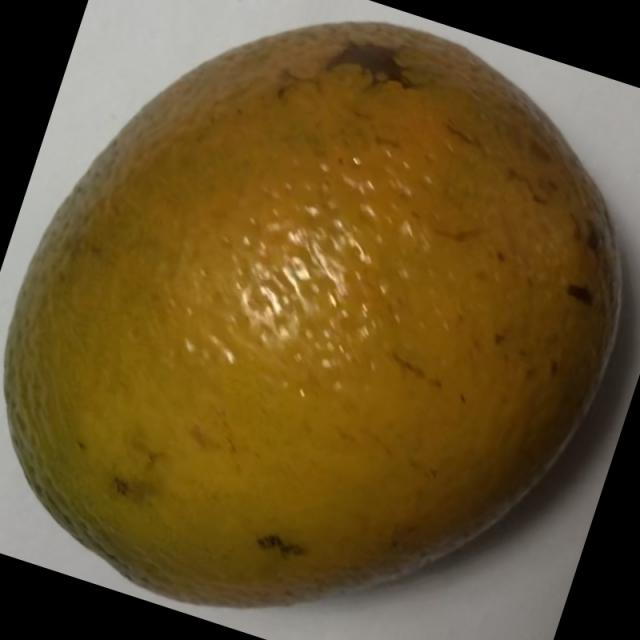canker: (14, 12, 635, 634)
